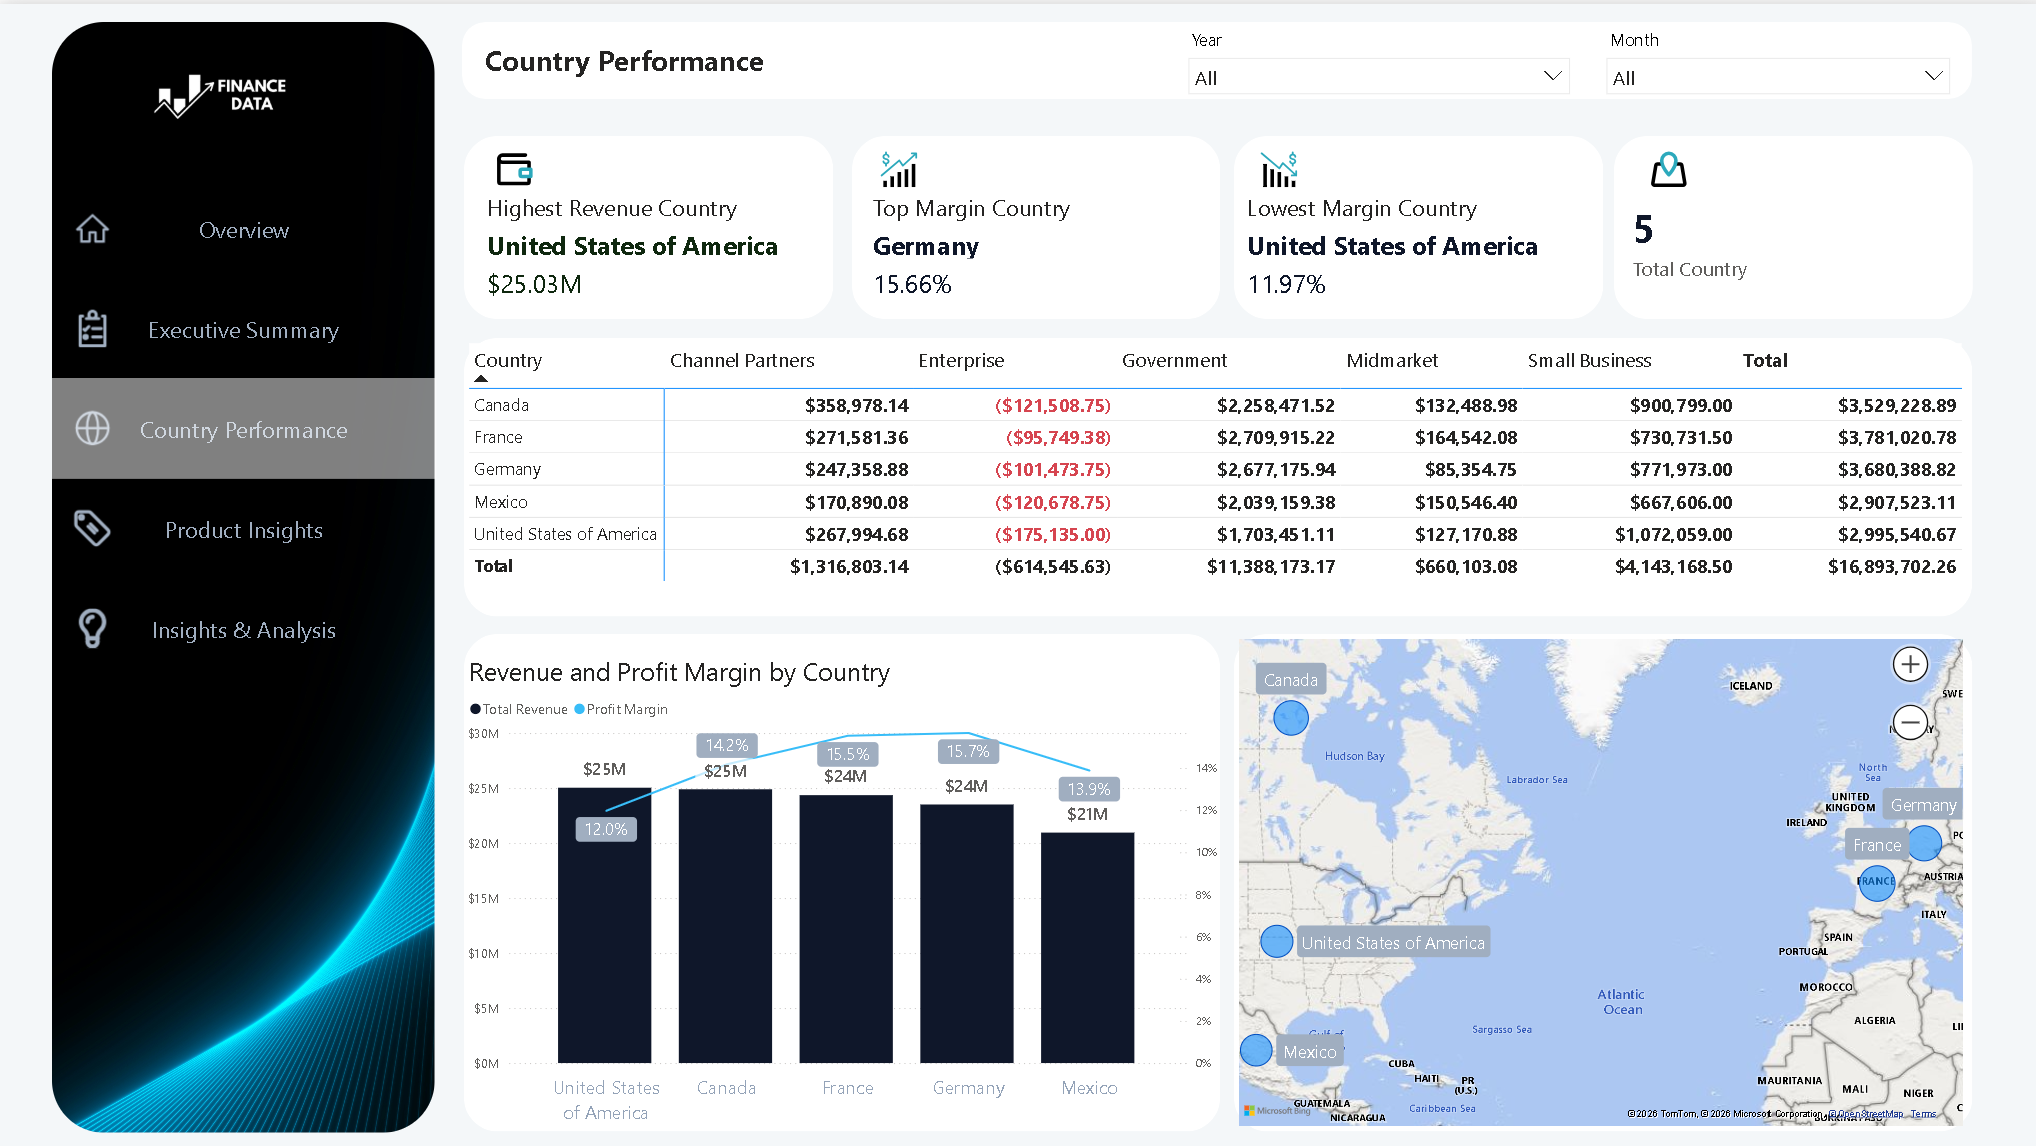

Layout of this report page (visuals, bound fields, positions):
{"tool":"powerbi","page":{"name":"Country Performance","canvas":[1970,1150],"ordinal":2},"visuals":[{"type":"image","box":[52,18,368,1068],"z":0},{"type":"actionButton","box":[52,263.9,369,97],"z":1000},{"type":"actionButton","box":[51,359.1,369,97.2],"z":2000},{"type":"actionButton","box":[52,456.3,369,97],"z":3000},{"type":"image","box":[0,17.9,420,148.8],"z":4000},{"type":"shape","box":[446.4,17,1451.8,74],"z":5000},{"type":"textbox","box":[463.4,31,461.3,59],"z":6000},{"type":"shape","box":[820.5,127.5,354,176],"z":7000},{"type":"shape","box":[448.5,127,355,176],"z":8000},{"type":"image","box":[463.4,138.2,67,41],"z":9000},{"type":"cardVisual","title":"Highest Revenue Country","fields":{"Data":["Basemeasure.Top Revenue Country Name","Basemeasure.Top Revenue Country Value"]},"box":[465.1,181,325,130.4],"z":10000},{"type":"slicer","fields":{"Values":["financials.Year"]},"box":[1135.1,17,386.9,74.4],"z":11000},{"type":"slicer","fields":{"Values":["financials.Month Name"]},"box":[1536.9,17,350.7,74.4],"z":12000},{"type":"actionButton","box":[52,167,369,97.2],"z":13000},{"type":"shape","box":[1188.3,127.5,355,176],"z":14000},{"type":"shape","box":[1553.4,127,345.2,176],"z":15000},{"type":"cardVisual","fields":{"Data":["Basemeasure.Total Country"]},"box":[1562.5,180,325,130],"z":16000},{"type":"image","box":[833.3,138.2,67,41],"z":17000},{"type":"image","box":[1198.9,138,67,41],"z":18000},{"type":"image","box":[1573,138,67,41],"z":19000},{"type":"shape","box":[448.4,321.4,1450.2,267.8],"z":20000},{"type":"pivotTable","fields":{"Rows":["financials.Country"],"Columns":["financials.Segment"],"Values":["Basemeasure.Total Profit"]},"box":[448.4,321.4,1450.2,267.8],"z":21000},{"type":"shape","box":[448.5,605.8,727,478.3],"z":22000},{"type":"lineStackedColumnComboChart","title":"Revenue and Profit Margin by Country","fields":{"Y2":["Basemeasure.Profit Margin"],"Y":["Basemeasure.Total Revenue"],"Category":["financials.Country"]},"box":[448.5,625,731.2,459.1],"z":23000},{"type":"shape","box":[1188.3,605.8,710,478.3],"z":24000},{"type":"map","fields":{"Category":["financials.Country"],"Size":["Basemeasure.Total Profit"]},"box":[1188.3,605.8,705.7,478.3],"z":25000},{"type":"cardVisual","title":" Top Margin Country","fields":{"Data":["Basemeasure.Top Margin Country Name","Basemeasure.Top Margin Country Value"]},"box":[836.7,180,325,130.4],"z":26000},{"type":"cardVisual","title":"Lowest  Margin Country","fields":{"Data":["Basemeasure.Lowest Margin Country Name","Basemeasure.Lowest Margin Country Value"]},"box":[1196.7,180,325,130.4],"z":27000},{"type":"actionButton","box":[52,552,369,97.3],"z":28000},{"type":"shape","title":"Country_performance_Active_Indicator","box":[52,359,369.7,97],"z":29000}]}

Visuals, with their boxes on the page's 1970x1150 design canvas (x1, y1, x2, y2). These are canvas units, not pixel positions in the 2036x1146 screenshot, which may show the page scaled, cropped or inside an application window:
image: (x1=52, y1=18, x2=420, y2=1086)
actionButton: (x1=52, y1=264, x2=421, y2=361)
actionButton: (x1=51, y1=359, x2=420, y2=456)
actionButton: (x1=52, y1=456, x2=421, y2=553)
image: (x1=0, y1=18, x2=420, y2=167)
shape: (x1=446, y1=17, x2=1898, y2=91)
textbox: (x1=463, y1=31, x2=925, y2=90)
shape: (x1=820, y1=128, x2=1174, y2=304)
shape: (x1=448, y1=127, x2=804, y2=303)
image: (x1=463, y1=138, x2=530, y2=179)
"Highest Revenue Country" cardVisual: (x1=465, y1=181, x2=790, y2=311)
slicer - financials.Year: (x1=1135, y1=17, x2=1522, y2=91)
slicer - financials.Month Name: (x1=1537, y1=17, x2=1888, y2=91)
actionButton: (x1=52, y1=167, x2=421, y2=264)
shape: (x1=1188, y1=128, x2=1543, y2=304)
shape: (x1=1553, y1=127, x2=1899, y2=303)
cardVisual - Basemeasure.Total Country: (x1=1562, y1=180, x2=1888, y2=310)
image: (x1=833, y1=138, x2=900, y2=179)
image: (x1=1199, y1=138, x2=1266, y2=179)
image: (x1=1573, y1=138, x2=1640, y2=179)
shape: (x1=448, y1=321, x2=1899, y2=589)
pivotTable - financials.Country x financials.Segment: (x1=448, y1=321, x2=1899, y2=589)
shape: (x1=448, y1=606, x2=1176, y2=1084)
"Revenue and Profit Margin by Country" lineStackedColumnComboChart: (x1=448, y1=625, x2=1180, y2=1084)
shape: (x1=1188, y1=606, x2=1898, y2=1084)
map - financials.Country x Basemeasure.Total Profit: (x1=1188, y1=606, x2=1894, y2=1084)
" Top Margin Country" cardVisual: (x1=837, y1=180, x2=1162, y2=310)
"Lowest  Margin Country" cardVisual: (x1=1197, y1=180, x2=1522, y2=310)
actionButton: (x1=52, y1=552, x2=421, y2=649)
"Country_performance_Active_Indicator" shape: (x1=52, y1=359, x2=422, y2=456)
